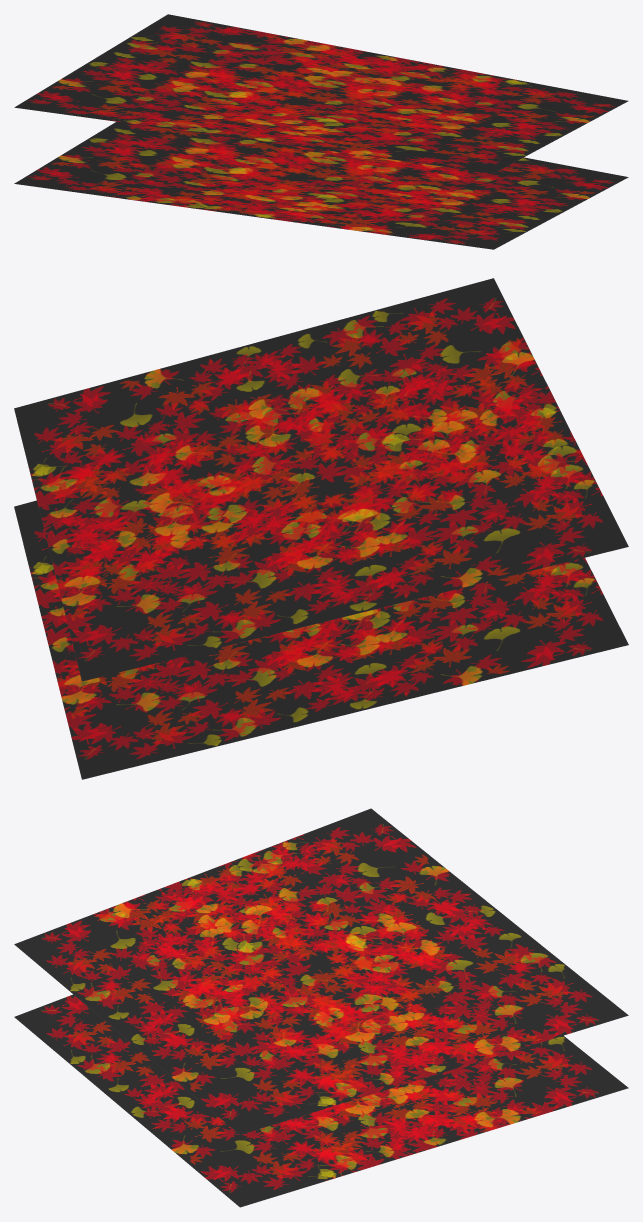
The model's file is CourseAki_CurveFloor_3_9.fbx.
3 renders of one model, top to bottom at view 1: azimuth 30°, elevation 25°; view 2: azimuth 150°, elevation 25°; view 3: azimuth 270°, elevation 25°, orthographic. The views are drawn at different scales.
Visible parts, largest first — view 1: polySurface458; view 2: polySurface458; view 3: polySurface458.
Part boxes in pixels (x1,y1,x2,y2): polySurface458: (14, 14, 628, 249); polySurface458: (14, 278, 628, 779); polySurface458: (14, 808, 628, 1207).
Bounding box in the file's own units: 7.5 × 2 × 7.68.
1 material, 1 textured.
